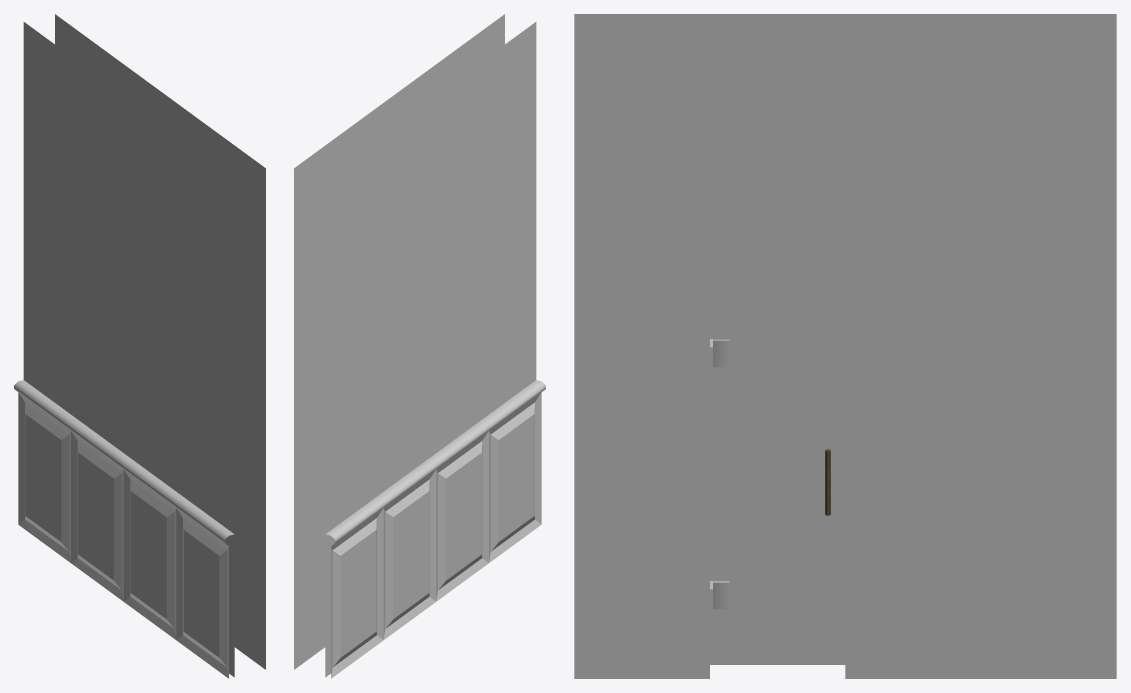
The model's file is wood_panneling_secret_door.DAE.
3 renders of one model, left to right at view 1: azimuth 30°, elevation 25°; view 2: azimuth 150°, elevation 25°; view 3: azimuth 270°, elevation 25°, orthographic. The views are drawn at different scales.
Parts seen in each view (by area): view 1: wallpaper, wood_wall, backside_wall, wallpaper_door, wood_door; view 2: wallpaper, wood_wall, backside_wall, wallpaper_door, wood_door; view 3: backside_wall, backside_door, wallpaper, hinge_door.
Part boxes in pixels (left/top/right/bottom): wallpaper: left=23, top=22, right=234, bottom=677; wood_wall: left=14, top=380, right=233, bottom=678; backside_wall: left=55, top=14, right=265, bottom=669; wallpaper_door: left=129, top=298, right=181, bottom=495; wood_door: left=119, top=457, right=181, bottom=639; wallpaper: left=325, top=22, right=536, bottom=677; wood_wall: left=326, top=380, right=545, bottom=678; backside_wall: left=294, top=14, right=504, bottom=669; wallpaper_door: left=430, top=259, right=483, bottom=456; wood_door: left=431, top=418, right=493, bottom=601; backside_wall: left=574, top=33, right=1116, bottom=678; backside_door: left=710, top=289, right=845, bottom=664; wallpaper: left=574, top=14, right=1116, bottom=33; hinge_door: left=713, top=339, right=729, bottom=609.
Bounding box in the file's own units: 0.4487 × 5.25 × 4.
